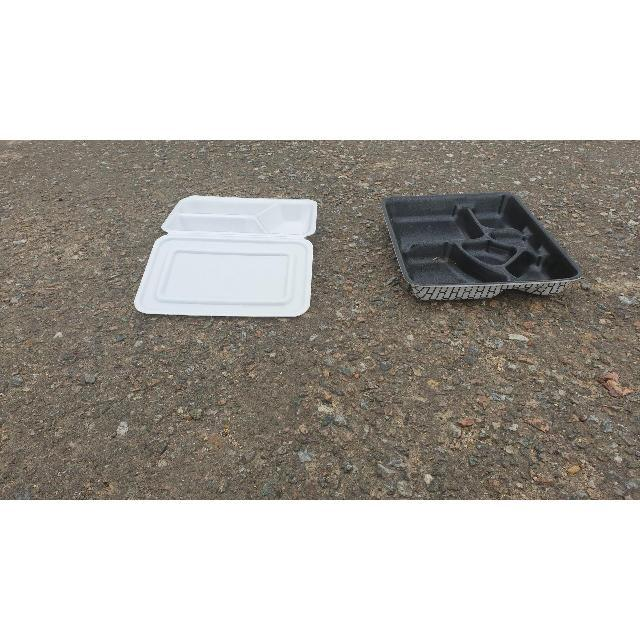Recipiente plastico: (135, 195, 315, 316), (385, 192, 580, 300), (135, 236, 312, 316), (161, 195, 318, 237)
